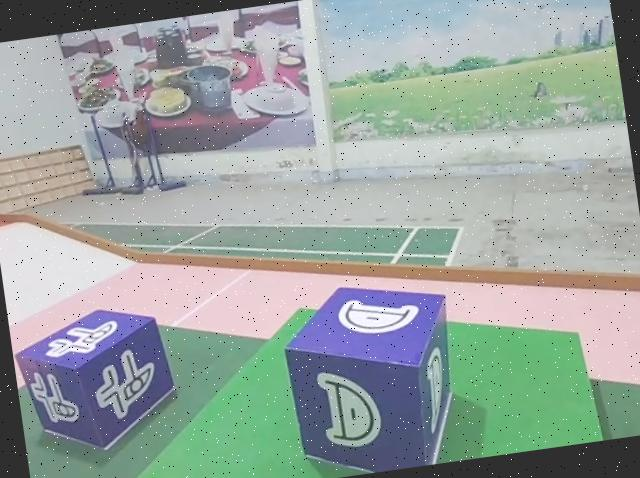R2 Real Blue: (277, 272, 468, 478), (13, 300, 185, 462)
